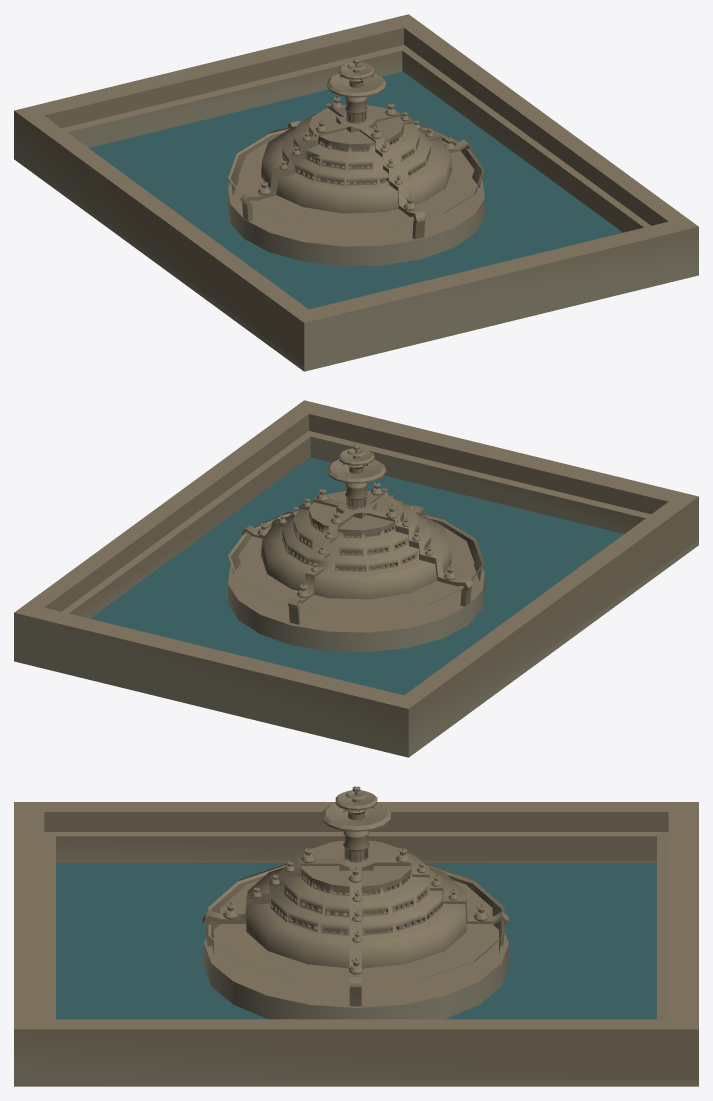
3 views of the same model, one above another, from view 1: azimuth 30°, elevation 25°; view 2: azimuth 150°, elevation 25°; view 3: azimuth 270°, elevation 25° (orthographic). The views are drawn at different scales.
Parts seen in each view (by area): view 1: pCube24:PIV; view 2: pCube24:PIV; view 3: pCube24:PIV.
Part boxes in pixels (x1,y1,x2,y2): pCube24:PIV: [14, 14, 698, 371]; pCube24:PIV: [14, 400, 698, 757]; pCube24:PIV: [14, 786, 698, 1086].
Bounding box in the file's own units: 44.82 × 17.14 × 57.1.
